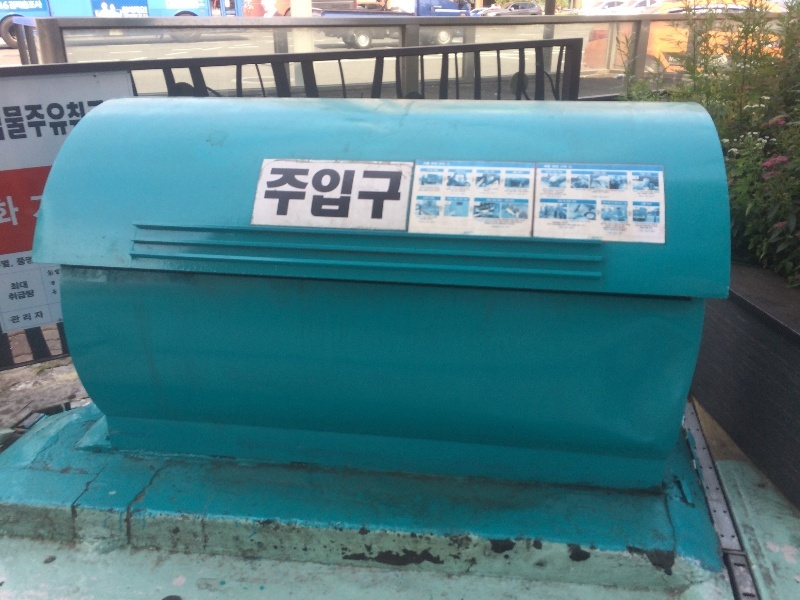text: (273, 168, 288, 221), (289, 168, 304, 221), (305, 168, 320, 221), (321, 168, 336, 221), (337, 168, 352, 221), (353, 168, 368, 221), (369, 168, 384, 221), (385, 168, 400, 221), (1, 102, 16, 141), (17, 102, 32, 141), (33, 102, 48, 141), (49, 102, 64, 141), (1, 195, 16, 230), (81, 100, 96, 130), (66, 100, 80, 130), (1, 118, 16, 143), (33, 195, 44, 220), (401, 168, 406, 221), (609, 220, 624, 235), (17, 195, 23, 230), (97, 100, 104, 130), (65, 102, 70, 141), (17, 289, 32, 302), (17, 311, 32, 324), (129, 6, 144, 18), (641, 222, 656, 234), (17, 256, 32, 267), (545, 188, 560, 199), (33, 311, 45, 324), (1, 259, 16, 269), (17, 280, 29, 292), (1, 1, 16, 10), (17, 1, 32, 10), (561, 221, 576, 230), (599, 220, 608, 235), (641, 190, 656, 198), (547, 221, 560, 230), (625, 220, 632, 235), (49, 268, 60, 277), (33, 1, 44, 10), (577, 221, 588, 230), (420, 216, 432, 224), (9, 289, 16, 302), (121, 6, 128, 18), (10, 311, 16, 324), (51, 289, 64, 295), (419, 186, 432, 192), (29, 195, 32, 220), (577, 189, 592, 194), (593, 189, 608, 194), (609, 189, 624, 194), (10, 280, 16, 292), (8, 1, 16, 10), (634, 222, 640, 234), (50, 281, 64, 286), (561, 188, 567, 199), (545, 165, 560, 169), (561, 199, 576, 203), (609, 201, 624, 205), (633, 190, 640, 198), (271, 168, 272, 221), (145, 6, 149, 18), (433, 162, 445, 166), (433, 216, 439, 224), (561, 165, 573, 169), (593, 196, 609, 199), (641, 202, 656, 205), (433, 186, 440, 192), (657, 222, 660, 234), (541, 188, 544, 199), (424, 162, 432, 166), (657, 190, 661, 198), (673, 56, 678, 62), (33, 289, 35, 302), (602, 201, 608, 205), (433, 169, 439, 172), (427, 169, 432, 172), (670, 56, 672, 62), (33, 256, 34, 267), (574, 189, 576, 194), (47, 268, 48, 277), (558, 199, 560, 203), (625, 201, 627, 205), (625, 189, 626, 194), (543, 165, 544, 169), (577, 199, 578, 203), (591, 196, 592, 199)
